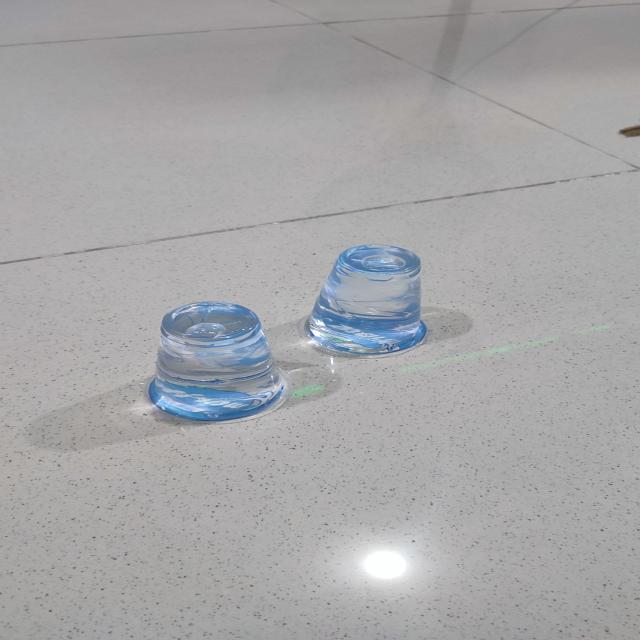air gelas: (126, 296, 290, 431), (299, 237, 440, 365)
